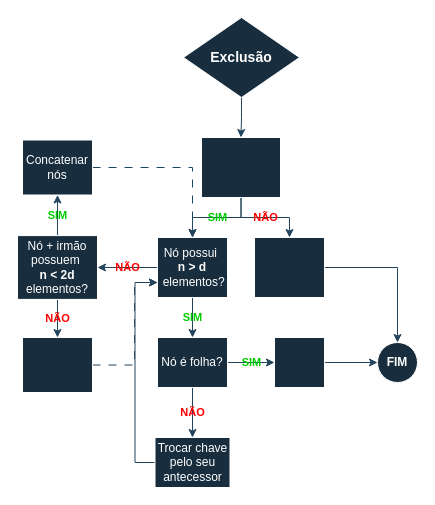
Image size: 435x505. Some labels were removed from this diagram. The shapes that lost their labels are listed below. From the top down, each one's centre as x and y in pixels, then its label:
[240,167]: Chave encontrada?
[289,267]: Chave não existe
[57,364]: Redistribuir nós
[299,362]: Excluir chave
